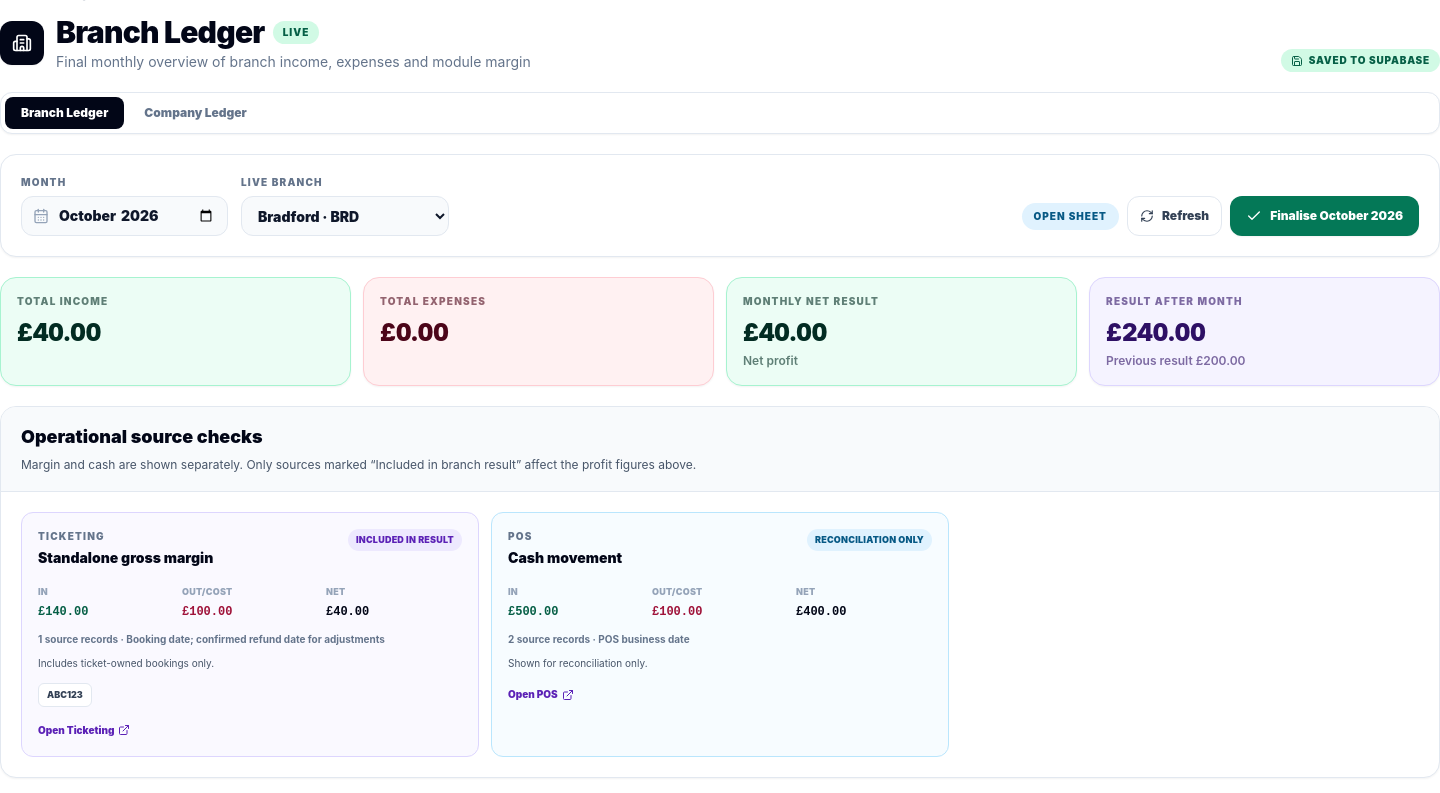
Test: live Branch Ledger › derives the all-branches company view and keeps company balances editable
Expected: the heading "Branch Ledger" is shown, top-left (56, 14), bottom-right (265, 50)
Click the button "Company Ledger". click: [196, 113]
box: top-left (128, 97), bottom-right (263, 129)
(page scrolled)
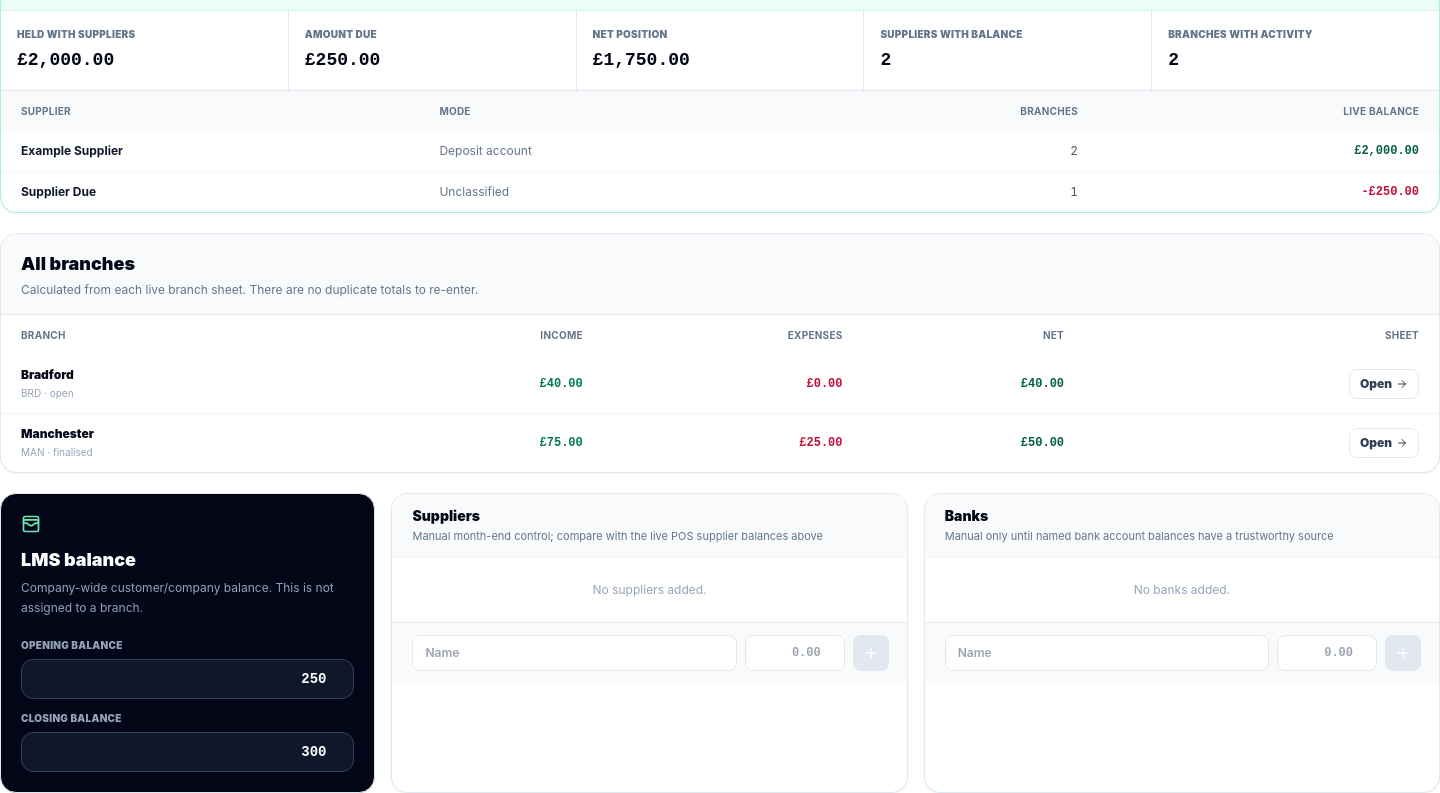
Now the heading "All branches" is shown, box top-left (21, 253), bottom-right (135, 274)
Now the text "£2,000.00" is shown, box top-left (17, 50), bottom-right (114, 70)
Now the text "Calculated from each live branch sheet. There are no duplicate totals to re-enter." is shown, box top-left (21, 282), bottom-right (478, 297)
